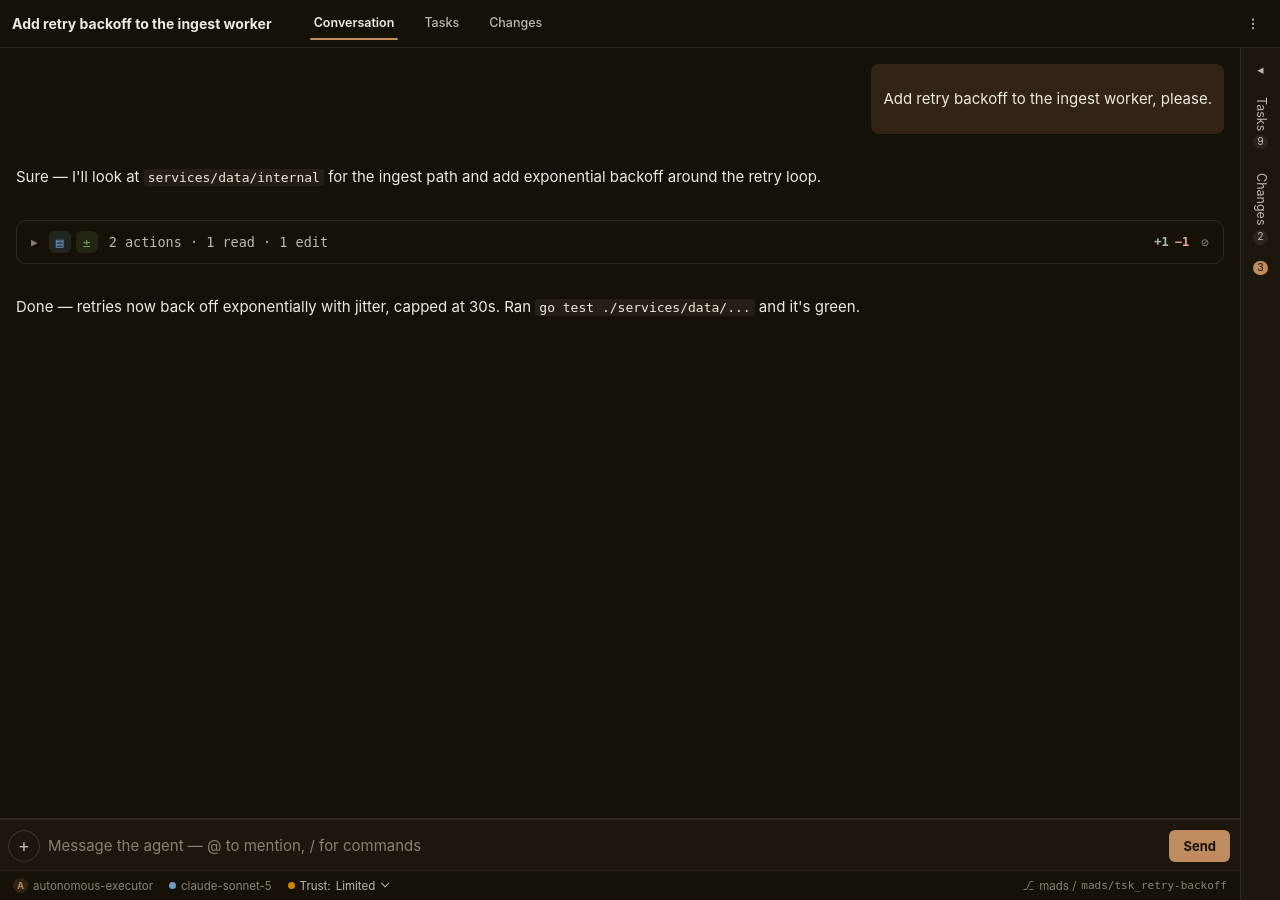
Scenario: SessionWorkspace › shell menu item says Show shell (with a dot) for a live shell whose dock is hidden
The image size is (1280, 900).
Step 1. Click the button named "Workspace actions" → (1253, 24), box [1238,10,1268,36]
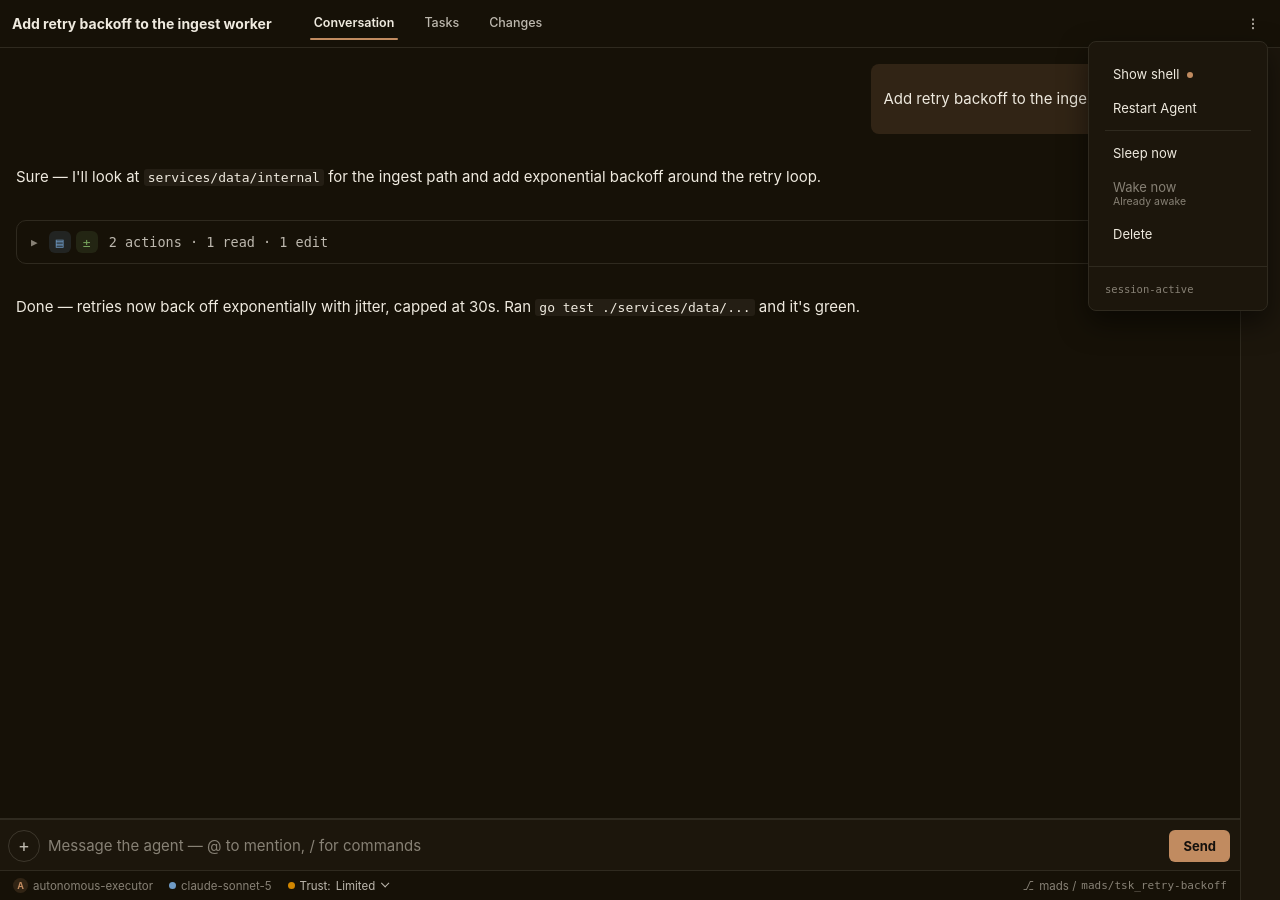
Expected: the button "Show shell" is shown, [1105,58,1251,90]
